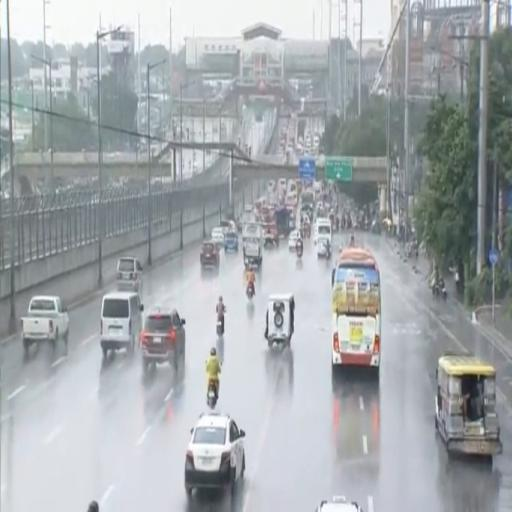bus: (332, 248, 381, 375)
car: (185, 412, 245, 497), (141, 307, 185, 374), (117, 256, 142, 296), (316, 496, 363, 511), (200, 242, 220, 267), (225, 232, 238, 252), (211, 228, 224, 247), (289, 230, 301, 250), (220, 220, 235, 234)
jeepney: (435, 354, 502, 456)
motorcycle: (207, 380, 217, 409), (432, 283, 447, 301), (216, 318, 224, 338), (246, 283, 254, 300), (296, 243, 303, 259), (324, 244, 331, 259), (441, 286, 447, 302)
truck: (21, 296, 68, 355), (242, 223, 263, 267), (243, 236, 263, 267), (275, 205, 290, 236)
